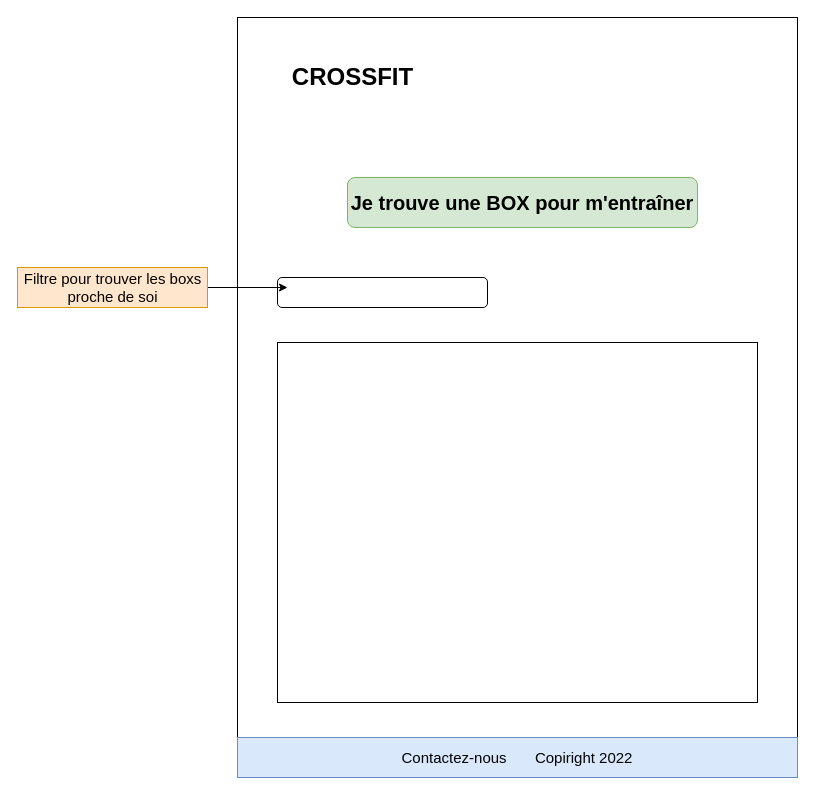
Some shapes in this 815 by 795 pixel diagram are drawn without their labels. Each missing label, with the centre of its shape:
Liste des BOXs: the point at 517,522
searchbar: the point at 382,292
